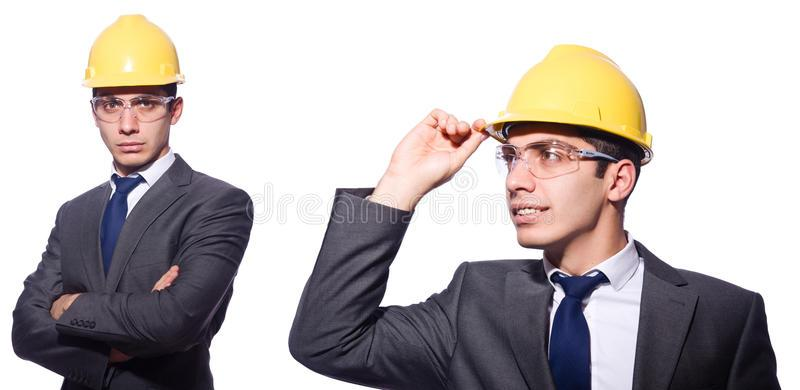helmet: (480, 44, 653, 162), (82, 15, 184, 87)
